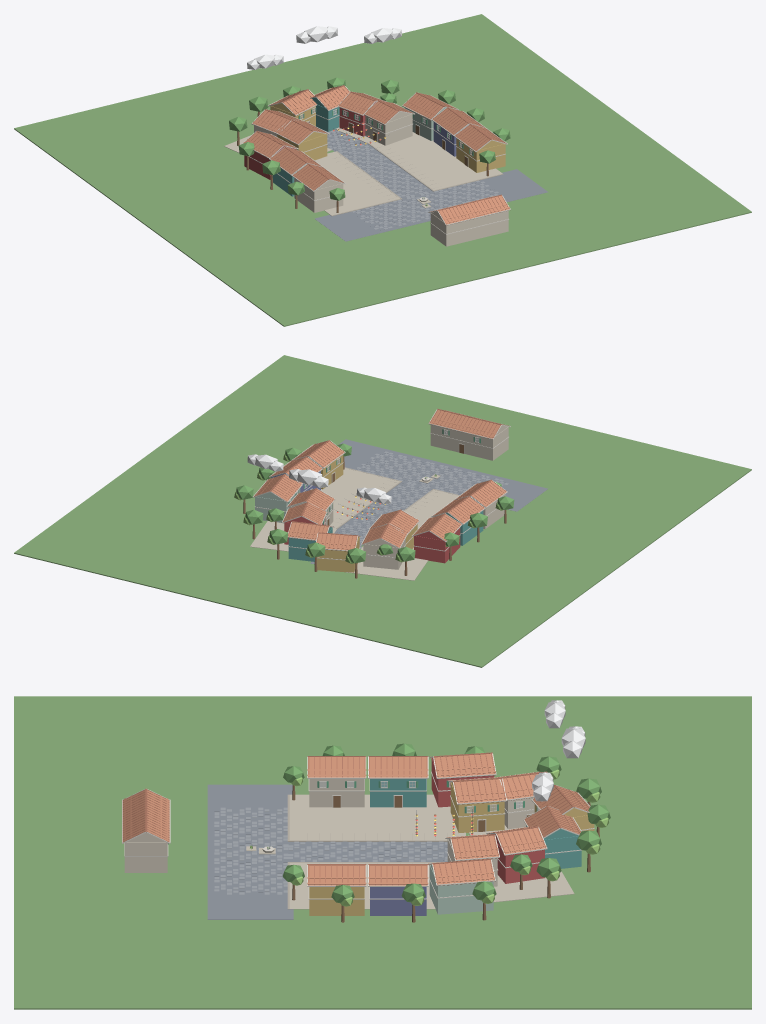
Rendered from LP_StreetPlaza.fbx.
3 renders of one model, top to bottom at view 1: azimuth 30°, elevation 25°; view 2: azimuth 150°, elevation 25°; view 3: azimuth 270°, elevation 25°, orthographic. The views are drawn at different scales.
Visible parts, largest first — view 1: OuterLawnApron, CobbleBed_Cross, Sidewalk_E, Sidewalk_W, Base.012, CobbleBed_Main, Base.002, Roof_Slab_-1.012, Base.009, Base.006, Base; view 2: OuterLawnApron, CobbleBed_Cross, Sidewalk_E, Base.012, CobbleBed_Main, Roof_Slab_1.012, Base.008, Sidewalk_W, Sidewalk_CurveW, Base.004, Base.001, Sidewalk_CurveE (+1 smaller); view 3: OuterLawnApron, CobbleBed_Cross, Sidewalk_W, CobbleBed_Main, Base.011, Base.007, Base.006, Base, Sidewalk_CurveE, Base.012, Base.010, Base.009 (+17 smaller).
Boxes of the visible parts, x1,y1,x2,y2 form: OuterLawnApron: [14, 14, 751, 326]; CobbleBed_Cross: [314, 169, 548, 241]; Sidewalk_E: [370, 132, 502, 191]; Sidewalk_W: [315, 151, 400, 215]; Base.012: [430, 210, 508, 246]; CobbleBed_Main: [341, 146, 434, 199]; Base.002: [365, 114, 412, 145]; Roof_Slab_-1.012: [438, 196, 509, 225]; Base.009: [456, 138, 505, 172]; Base.006: [294, 178, 343, 212]; Base: [277, 134, 327, 160]; OuterLawnApron: [14, 355, 751, 667]; CobbleBed_Cross: [338, 439, 547, 511]; Sidewalk_E: [321, 468, 399, 528]; Base.012: [430, 425, 508, 460]; CobbleBed_Main: [341, 480, 432, 533]; Roof_Slab_1.012: [430, 410, 500, 438]; Base.008: [414, 528, 460, 563]; Sidewalk_W: [404, 490, 458, 528]; Sidewalk_CurveW: [345, 546, 428, 580]; Base.004: [317, 537, 359, 572]; Base.001: [363, 539, 405, 569]; Sidewalk_CurveE: [250, 521, 336, 551]; OuterLawnApron: [14, 696, 751, 1009]; CobbleBed_Cross: [207, 784, 293, 919]; Sidewalk_W: [289, 794, 465, 840]; CobbleBed_Main: [284, 842, 447, 862]; Base.011: [429, 865, 493, 914]; Base.007: [370, 779, 426, 807]; Base.006: [309, 779, 364, 807]; Base: [450, 782, 504, 832]; Sidewalk_CurveE: [493, 871, 574, 902]; Base.012: [124, 842, 167, 872]; Base.010: [370, 887, 426, 915]; Base.009: [309, 887, 364, 915].
Bounding box in the file's own units: 120 × 22.74 × 120.
